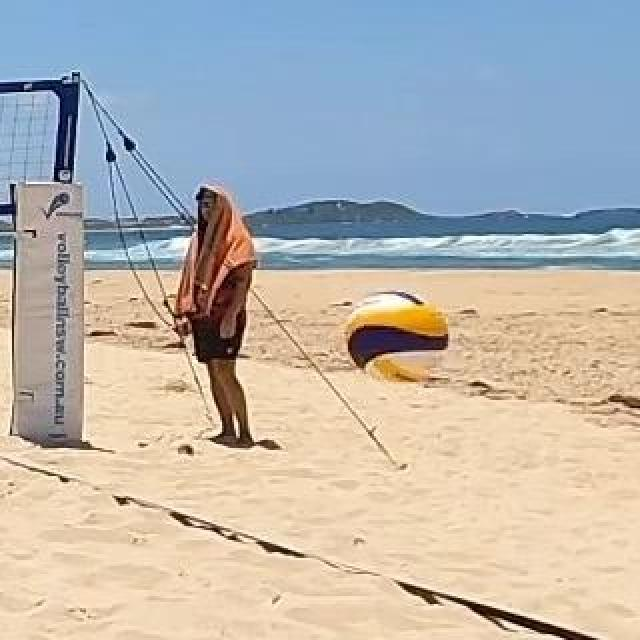volleyball: (345, 292, 449, 388)
